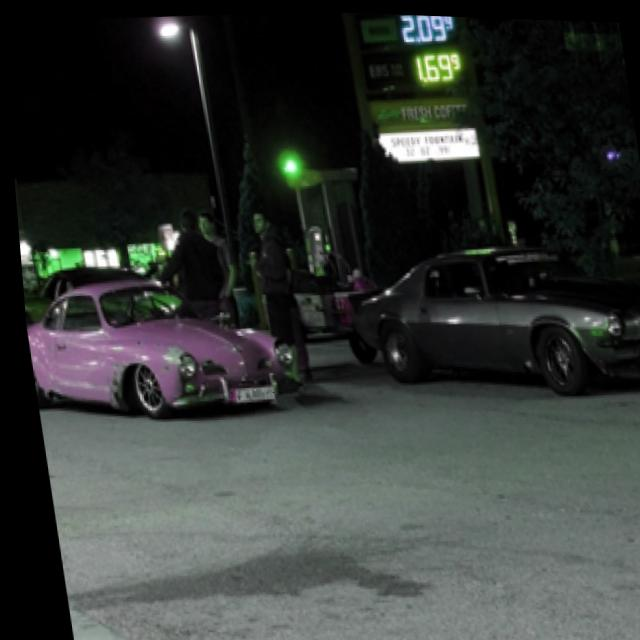license_plate: (222, 383, 270, 405)
